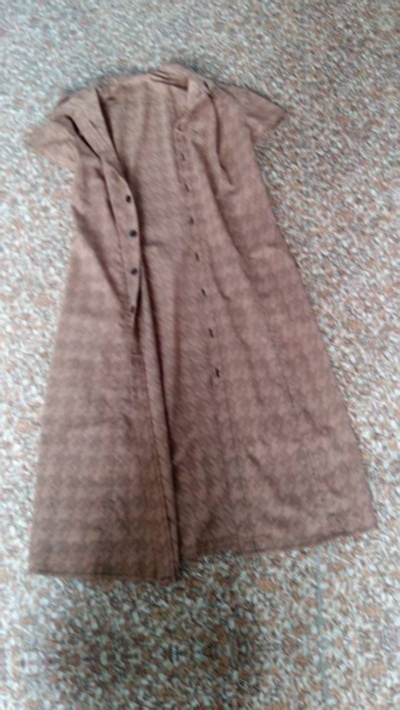Dress: (0, 39, 381, 606), (25, 698, 400, 710)
